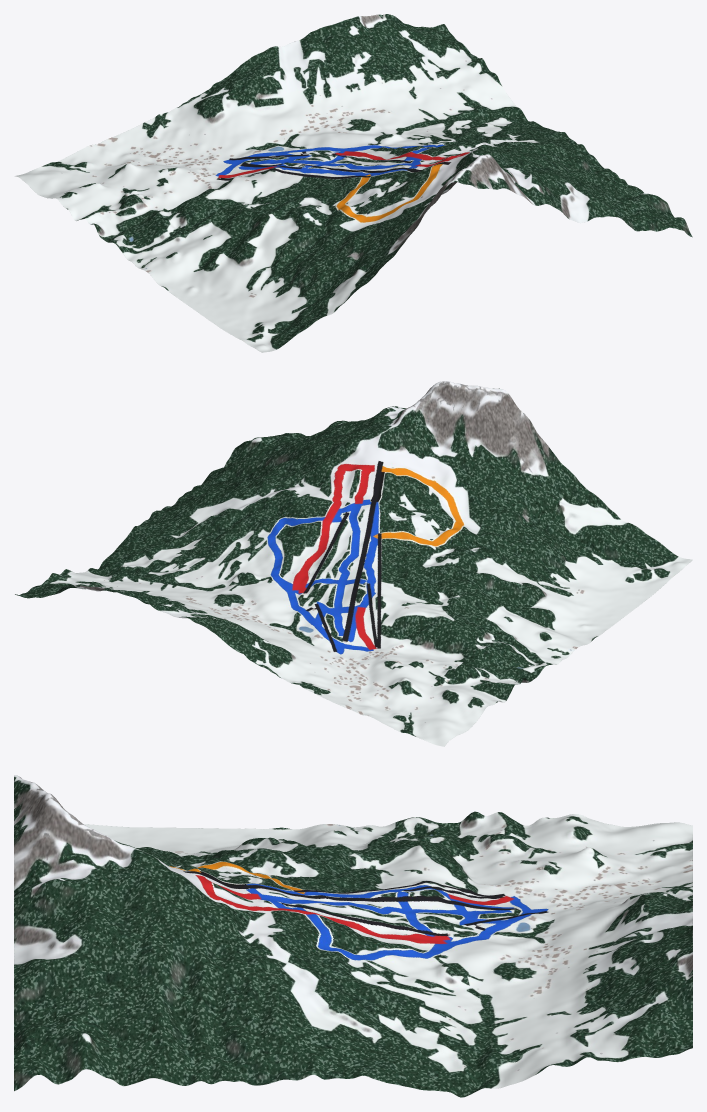
3 views of the same model, one above another, from view 1: azimuth 30°, elevation 25°; view 2: azimuth 150°, elevation 25°; view 3: azimuth 270°, elevation 25° (orthographic). The views are drawn at different scales.
Visible parts, largest first — view 1: F4_Sorgschrofen.glb; view 2: F4_Sorgschrofen.glb; view 3: F4_Sorgschrofen.glb.
Boxes of the visible parts, x1,y1,x2,y2 form: F4_Sorgschrofen.glb: [14, 14, 692, 352]; F4_Sorgschrofen.glb: [15, 381, 692, 746]; F4_Sorgschrofen.glb: [14, 775, 692, 1097].
Size of the model in its own units: 2600 by 804 by 2600.
1 material, 1 textured.
